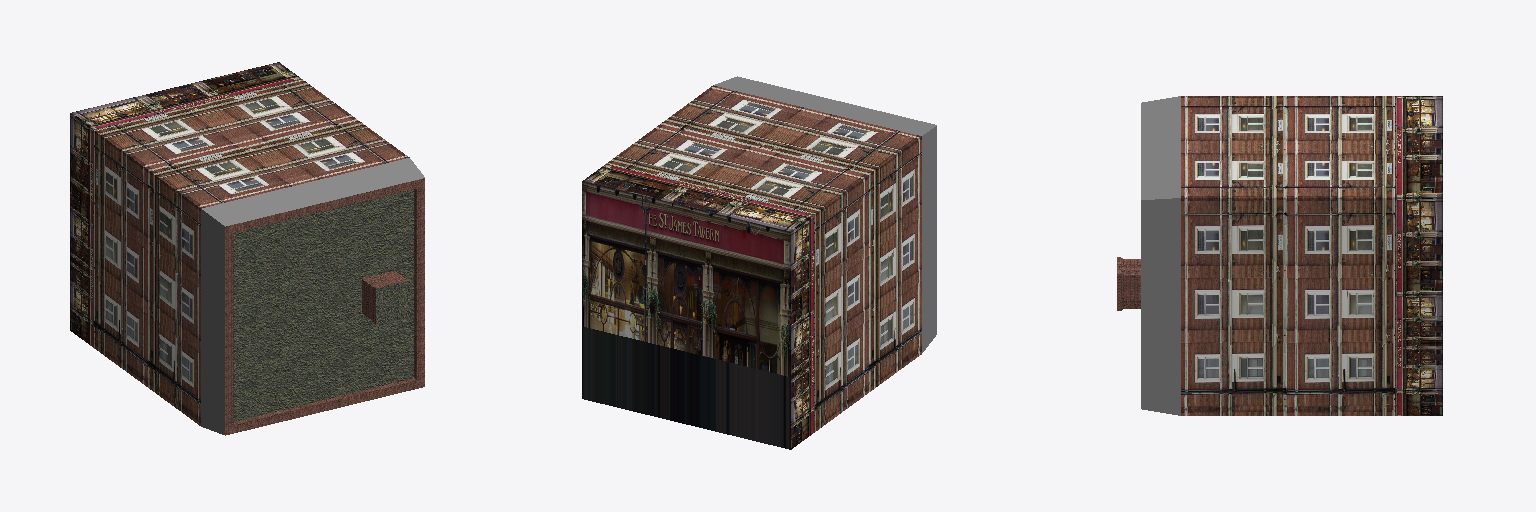
3 views of the same model, side by side, from view 1: azimuth 30°, elevation 25°; view 2: azimuth 150°, elevation 25°; view 3: azimuth 270°, elevation 25° (orthographic).
Visible parts, largest first — view 1: Shops_F_01; view 2: Shops_F_01; view 3: Shops_F_01.
Boxes of the visible parts, x1=… form: Shops_F_01: x1=70, y1=62, x2=424, y2=435; Shops_F_01: x1=582, y1=76, x2=936, y2=449; Shops_F_01: x1=1117, y1=96, x2=1442, y2=415.
Size of the model in its own units: 32.02 by 31.95 by 43.25.
Materials: 5 (4 with a texture image).